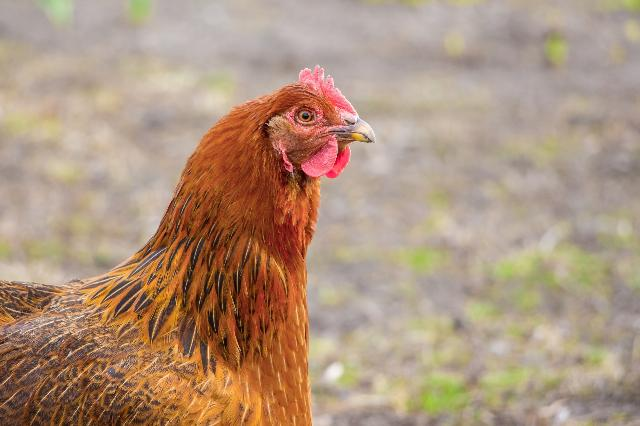Chicken: (0, 63, 377, 426)
